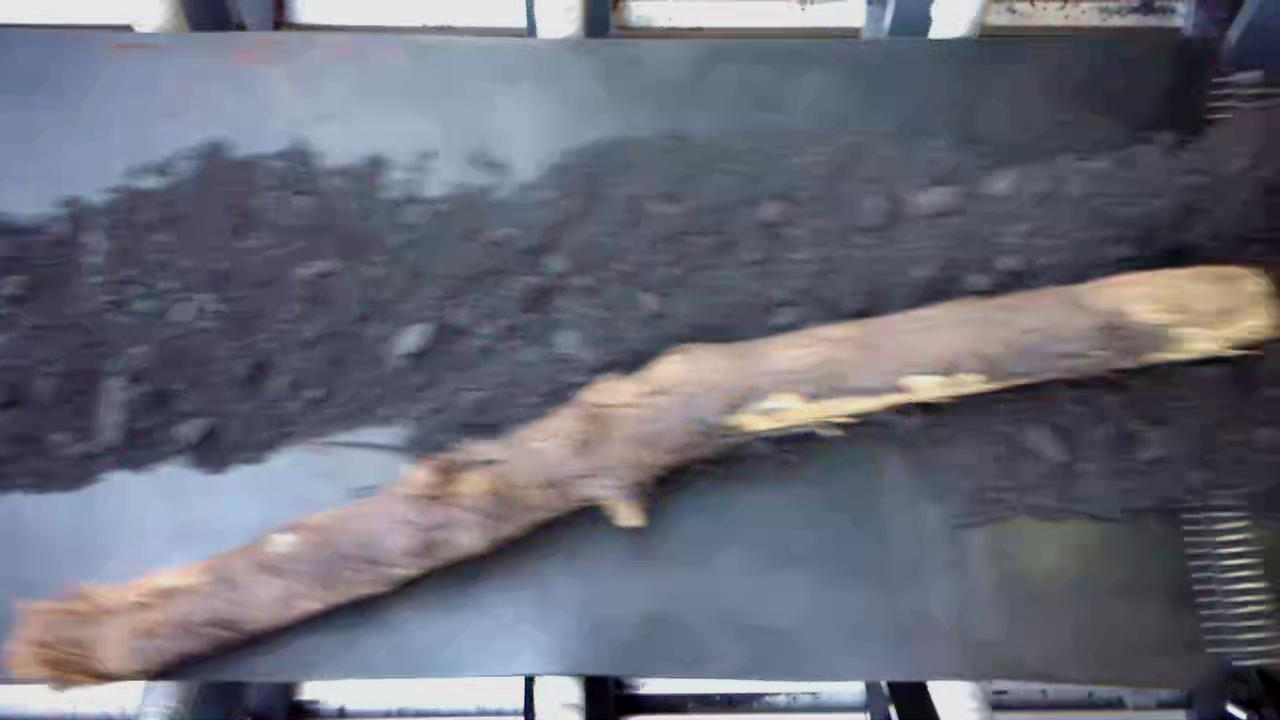conveyor: (5, 48, 1280, 686)
